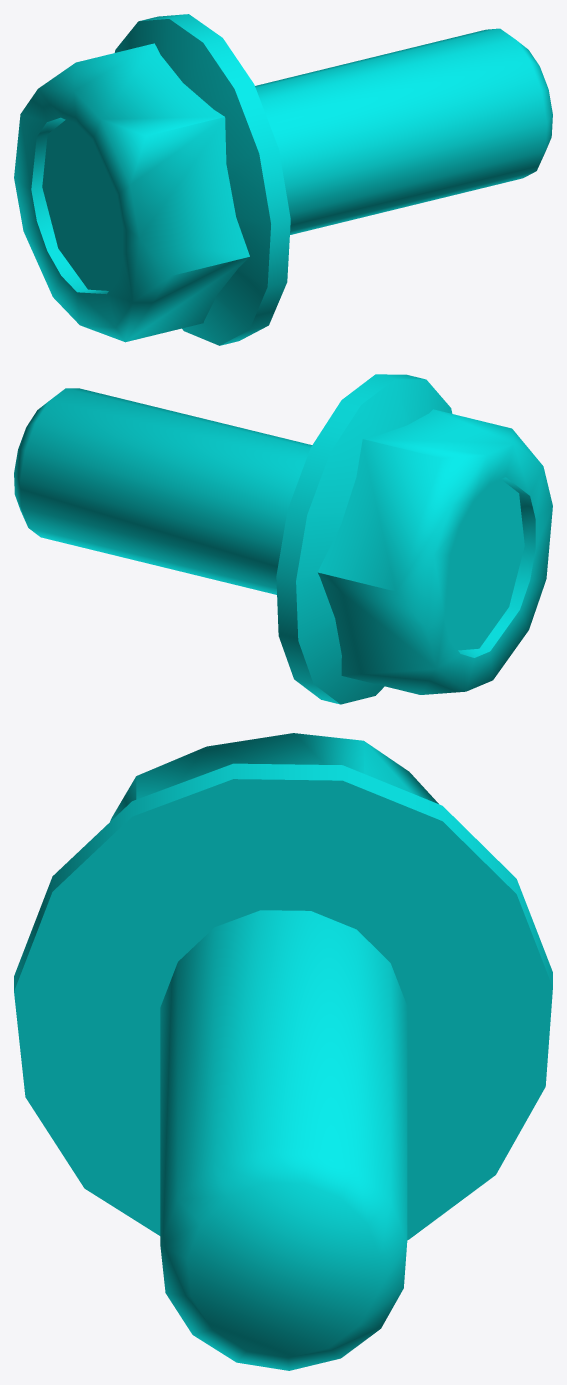
The picture shows the model from 3 angles, top to bottom: view 1: azimuth 30°, elevation 25°; view 2: azimuth 150°, elevation 25°; view 3: azimuth 270°, elevation 25°; orthographic projection. The views are drawn at different scales.
Parts seen in each view (by area): view 1: tr004_01; view 2: tr004_01; view 3: tr004_01.
Part boxes in pixels (<box>): tr004_01: <box>14,14,552,345</box>; tr004_01: <box>14,374,552,704</box>; tr004_01: <box>14,733,552,1370</box>.
Bounding box in the file's own units: 3.35 × 2.17 × 2.17.
